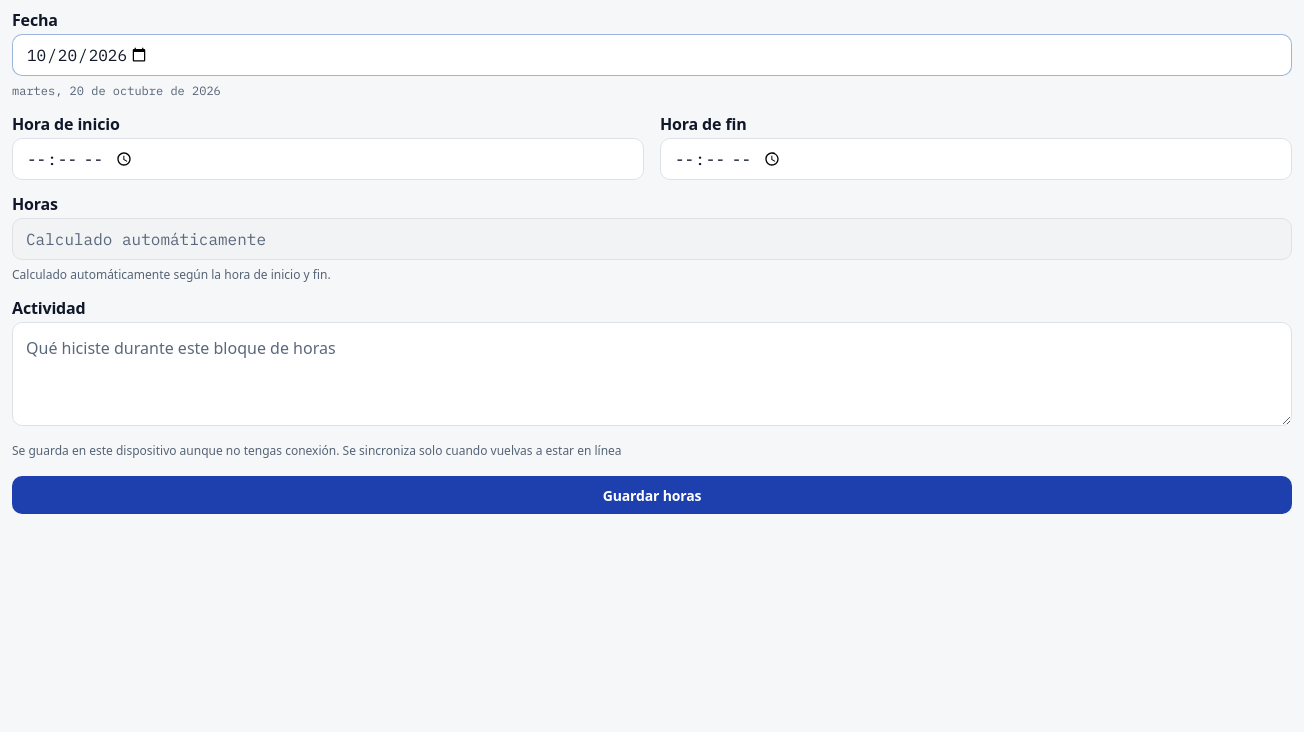
Test case: HourLogForm calendar dates › keeps required-field validation before making any local writes
Click the button "Guardar horas". click: (652, 495)
box: [12,476,1292,514]
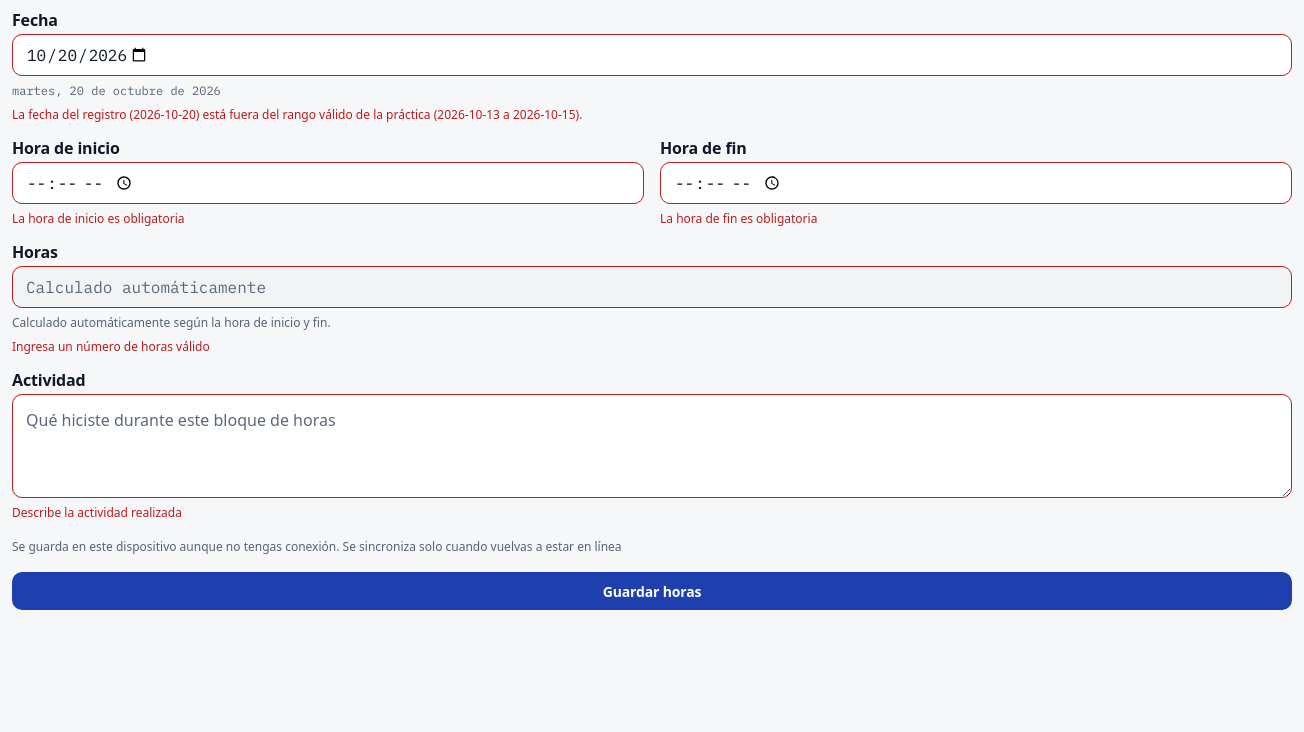
expect the text "La hora de inicio es obligatoria" is shown: met, box [12,210,184,227]
expect the text "La hora de fin es obligatoria" is shown: met, box [660,210,817,227]
expect the text "Describe la actividad realizada" is shown: met, box [12,504,182,521]
